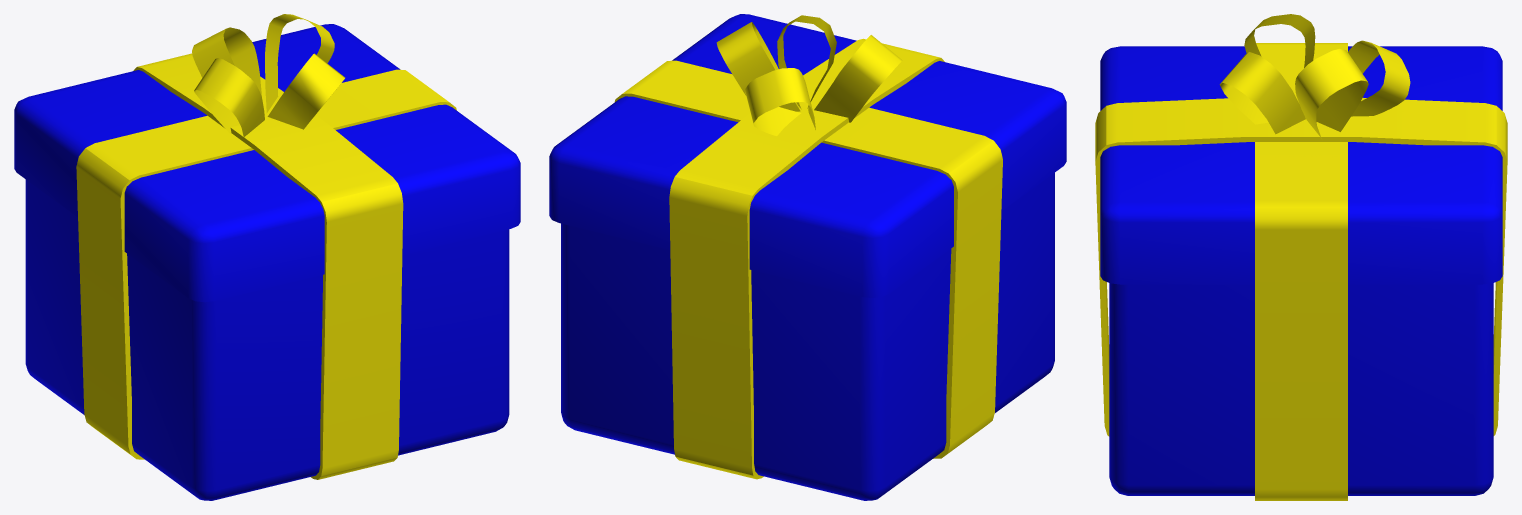
Rendered from giftBox_03.fbx.
3 renders of one model, left to right at view 1: azimuth 30°, elevation 25°; view 2: azimuth 150°, elevation 25°; view 3: azimuth 270°, elevation 25°, orthographic. The views are drawn at different scales.
Parts seen in each view (by area): view 1: giftBox_03; view 2: giftBox_03; view 3: giftBox_03.
Part boxes in pixels (x1,y1,x2,y2): giftBox_03: [14, 14, 520, 500]; giftBox_03: [549, 14, 1066, 500]; giftBox_03: [1095, 14, 1507, 500].
Bounding box in the file's own units: 3.14 × 3.32 × 3.14.
Materials: 1 (1 with a texture image).
